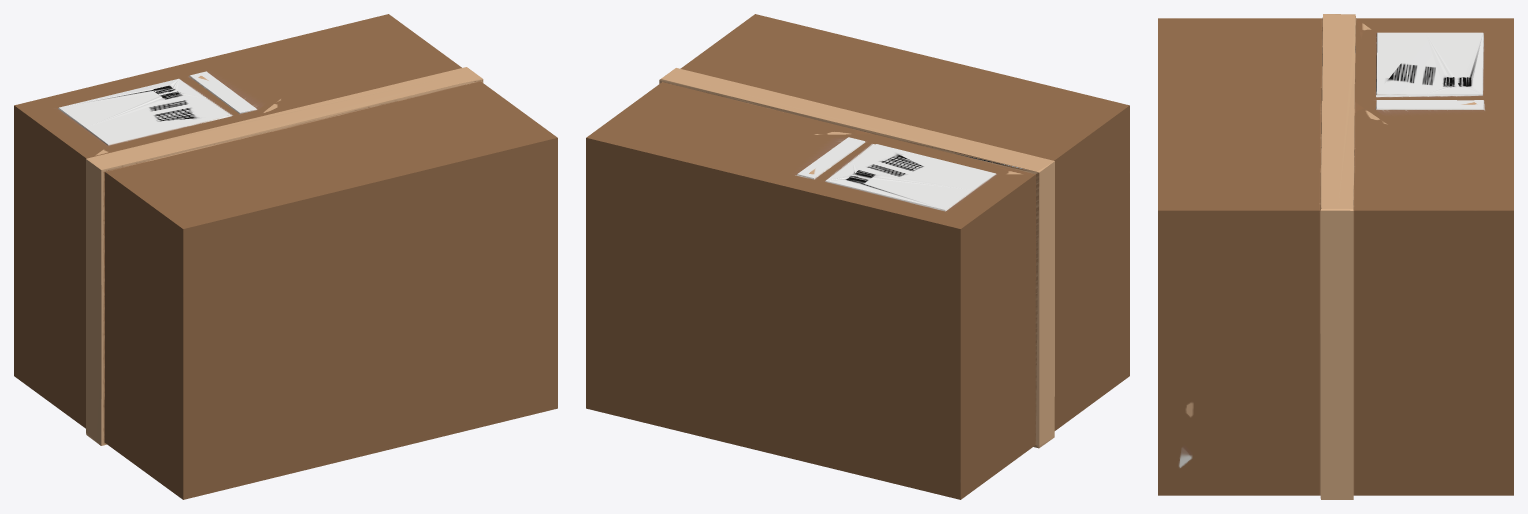
Rendered from packet.glb.
3 views of the same model, side by side, from view 1: azimuth 30°, elevation 25°; view 2: azimuth 150°, elevation 25°; view 3: azimuth 270°, elevation 25° (orthographic). The views are drawn at different scales.
Parts seen in each view (by area): view 1: 272881_23_05_11_14_56_54_0; view 2: 272881_23_05_11_14_56_54_0; view 3: 272881_23_05_11_14_56_54_0.
Boxes of the visible parts, x1,y1,x2,y2 form: 272881_23_05_11_14_56_54_0: [14, 14, 557, 499]; 272881_23_05_11_14_56_54_0: [586, 14, 1129, 499]; 272881_23_05_11_14_56_54_0: [1158, 14, 1513, 499].
Size of the model in its own units: 5.3 by 3.67 by 4.07.
Materials: 1 (1 with a texture image).
